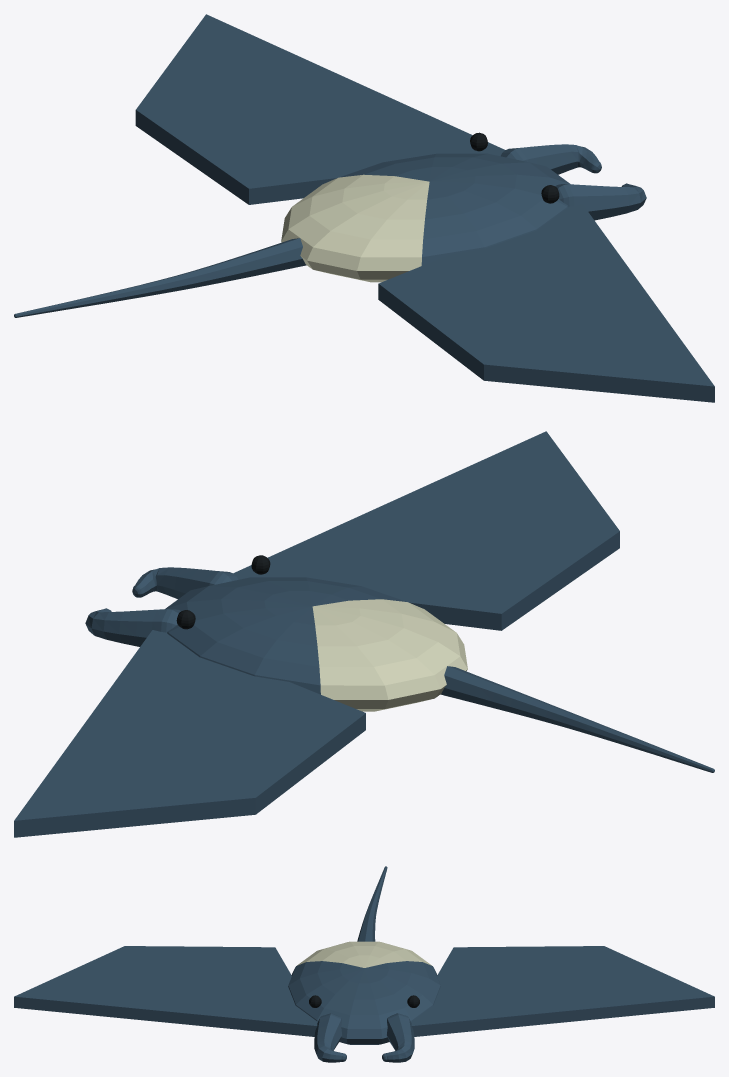
File: manta-ray.dae
The picture shows the model from 3 angles, top to bottom: view 1: azimuth 30°, elevation 25°; view 2: azimuth 150°, elevation 25°; view 3: azimuth 270°, elevation 25°; orthographic projection. The views are drawn at different scales.
Parts seen in each view (by area): view 1: part2-node, part1-node; view 2: part2-node, part1-node; view 3: part2-node, part1-node.
Boxes of the visible parts, bbox=[...] form: part2-node: bbox=[14, 14, 714, 402]; part1-node: bbox=[281, 174, 429, 282]; part2-node: bbox=[14, 431, 714, 837]; part1-node: bbox=[312, 599, 467, 711]; part2-node: bbox=[14, 866, 714, 1062]; part1-node: bbox=[297, 941, 431, 967].
Size of the model in its own units: 4.5 by 6.73 by 0.5402.
